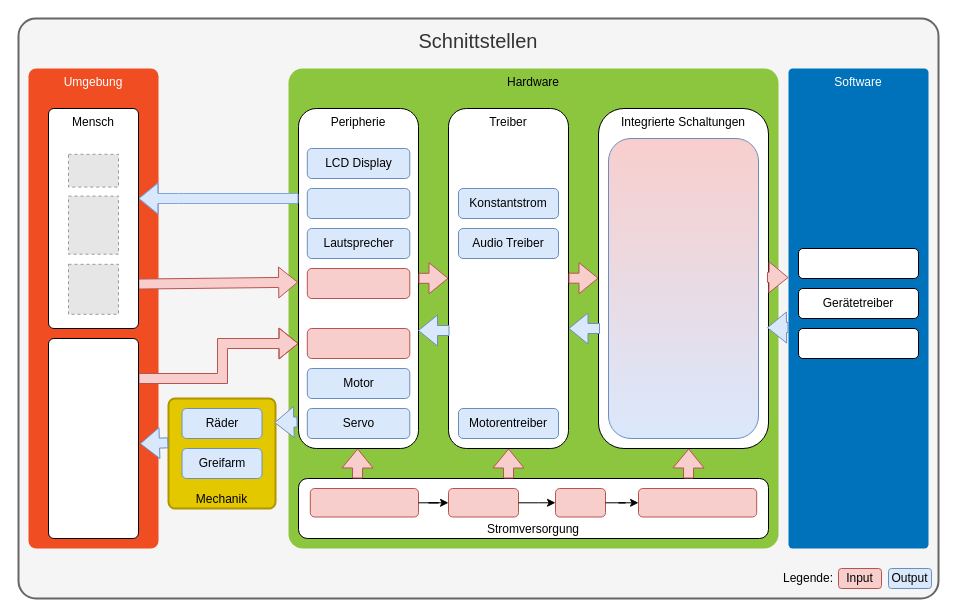
Some shapes in this 956 by 616 pixel diagram are drawn without their labels. Grey dashed boxes stand in for pictures. Here are the shapes that lost their labels. From the top down, the centre of each, then its label:
At point 358,203: "RGB LED".
At point 358,283: "Taster".
At point 858,263: "State Machine".
At point 683,288: "Arduino".
At point 358,343: "Kamera".
At point 858,343: "Orientierung".
At point 93,438: "Spielfeld".
At point 363,502: "Externe Speisung".
At point 483,502: "Laderegler".
At point 580,502: "Akku".
At point 697,502: "Spannungswandler".
